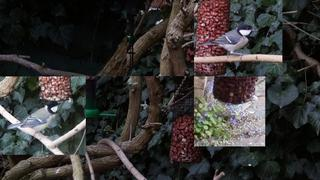great tit: (6, 100, 62, 141), (198, 24, 258, 61)
